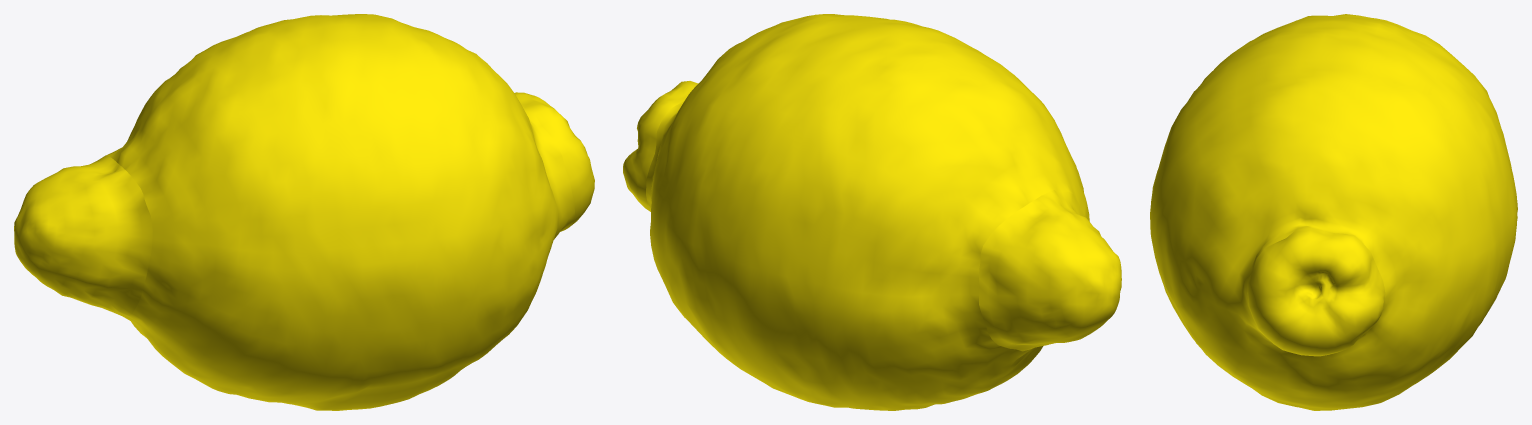
File: lemonii.fbx
The picture shows the model from 3 angles, left to right: view 1: azimuth 30°, elevation 25°; view 2: azimuth 150°, elevation 25°; view 3: azimuth 270°, elevation 25°; orthographic projection. The views are drawn at different scales.
Visible parts, largest first — view 1: Group32430; view 2: Group32430; view 3: Group32430.
Part boxes in pixels (x1,y1,x2,y2): Group32430: (14,14,594,410); Group32430: (623,14,1121,410); Group32430: (1150,14,1517,410).
Size of the model in its own units: 4.63 by 3.01 by 3.05.
